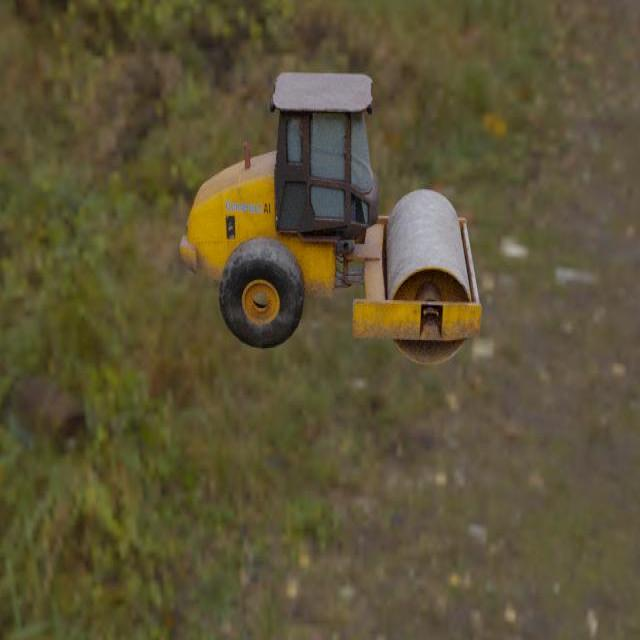Roller: (179, 72, 482, 365)
